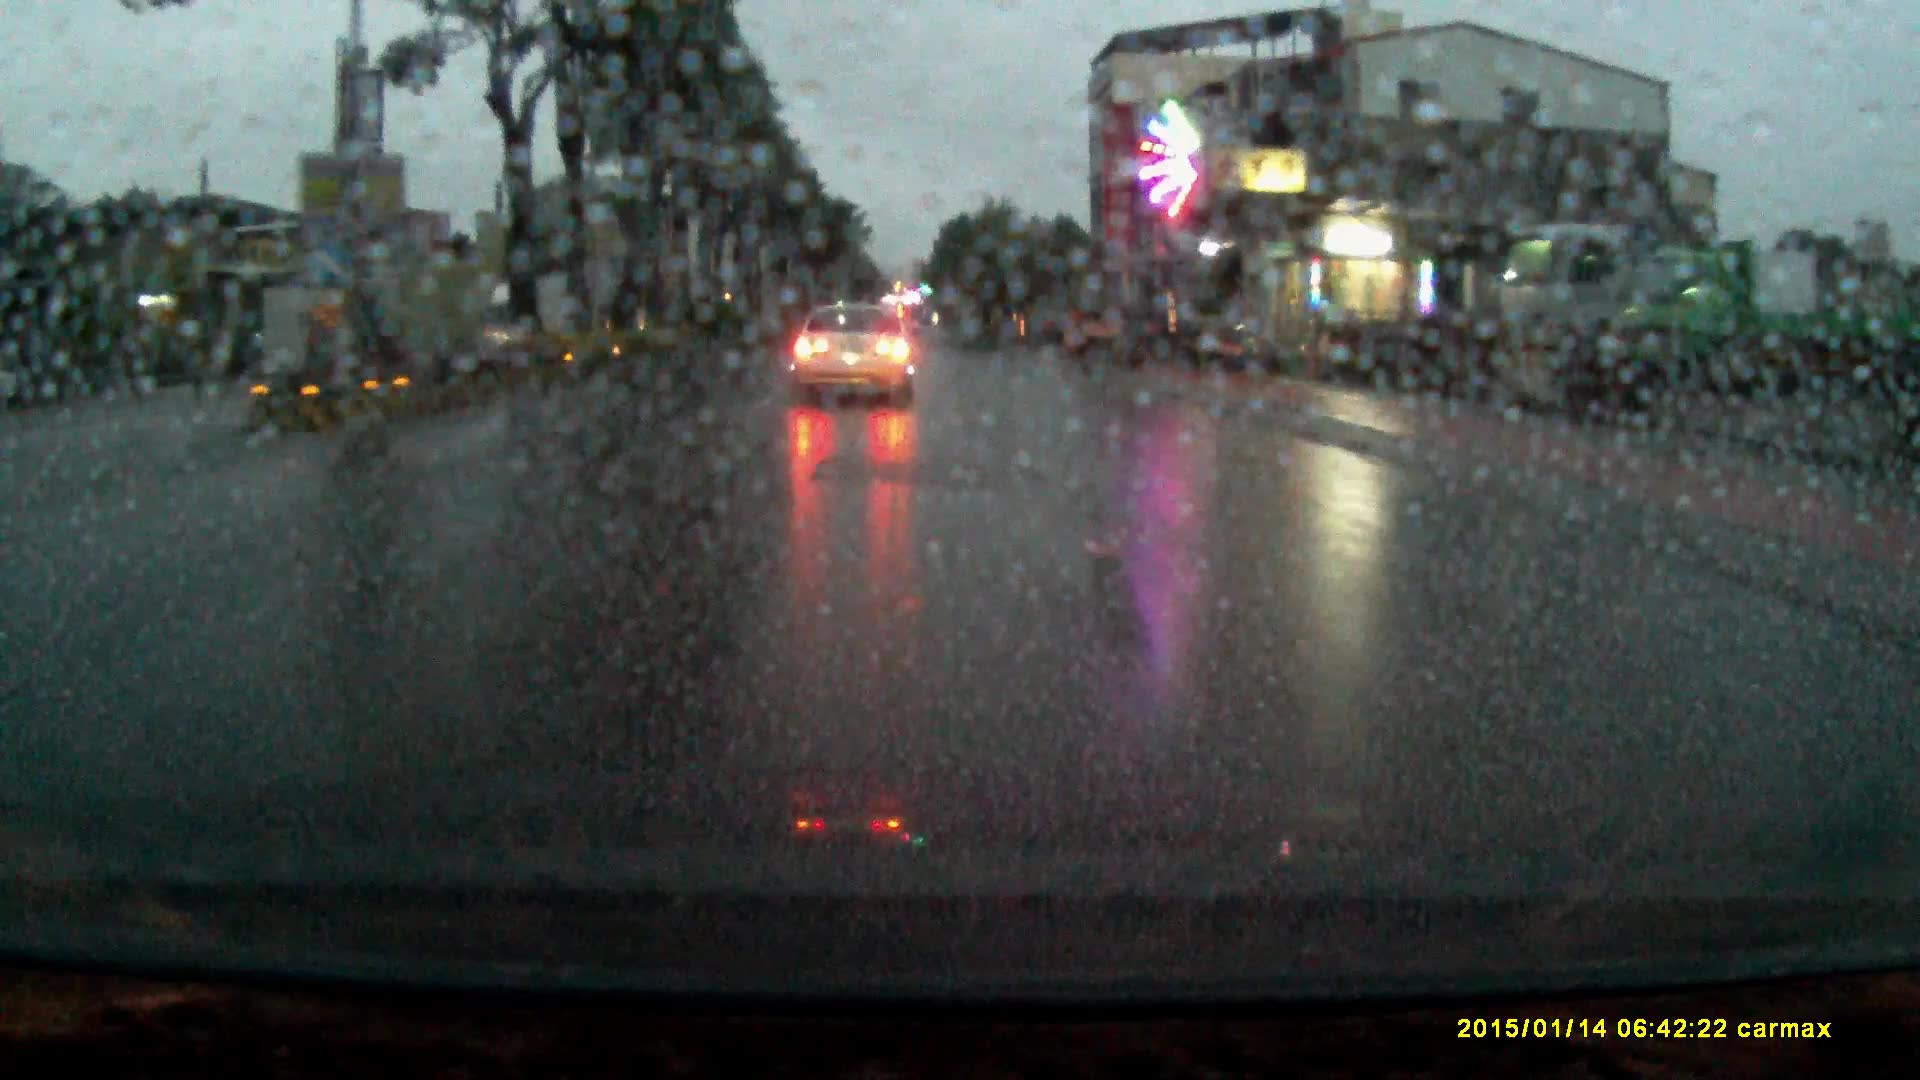vehicle: (1573, 252, 1920, 397), (1484, 222, 1642, 384), (789, 301, 916, 411), (480, 280, 578, 348)
